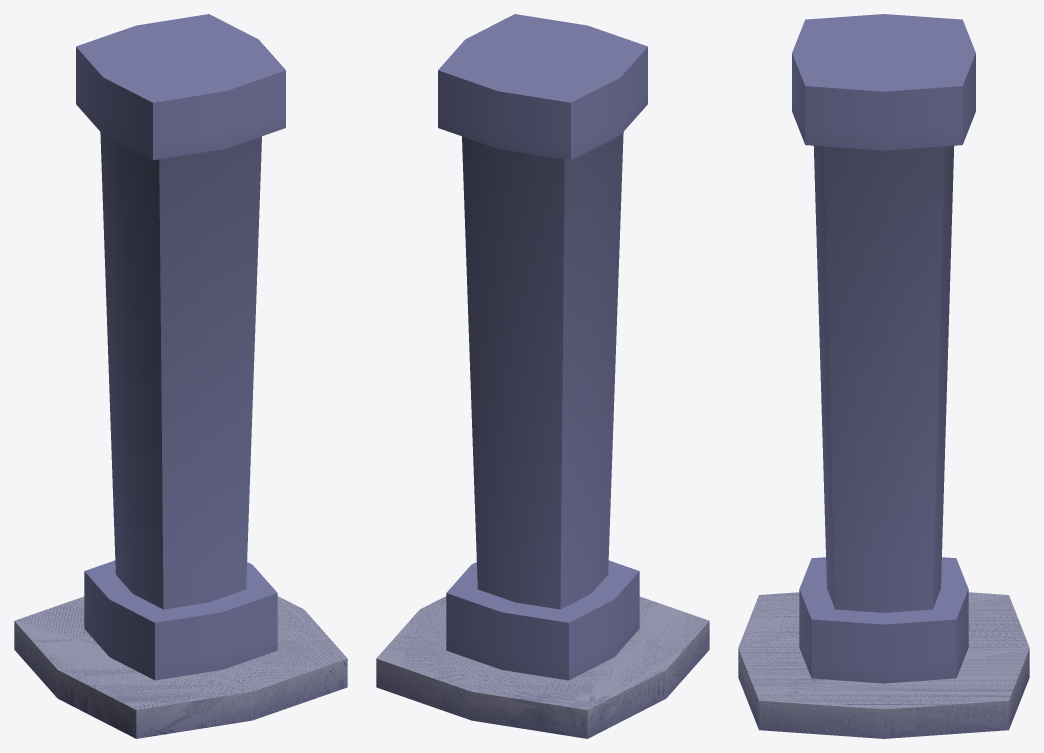
The model's file is template-detail.glb.
The picture shows the model from 3 angles, left to right: view 1: azimuth 30°, elevation 25°; view 2: azimuth 150°, elevation 25°; view 3: azimuth 270°, elevation 25°; orthographic projection. The views are drawn at different scales.
Parts seen in each view (by area): view 1: template-detail; view 2: template-detail; view 3: template-detail.
Part boxes in pixels (left/top/right/bottom): template-detail: left=14, top=14, right=347, bottom=738; template-detail: left=376, top=14, right=709, bottom=738; template-detail: left=738, top=14, right=1029, bottom=738.
Bounding box in the file's own units: 1.79 × 4.23 × 1.79.
Materials: 1 (1 with a texture image).
